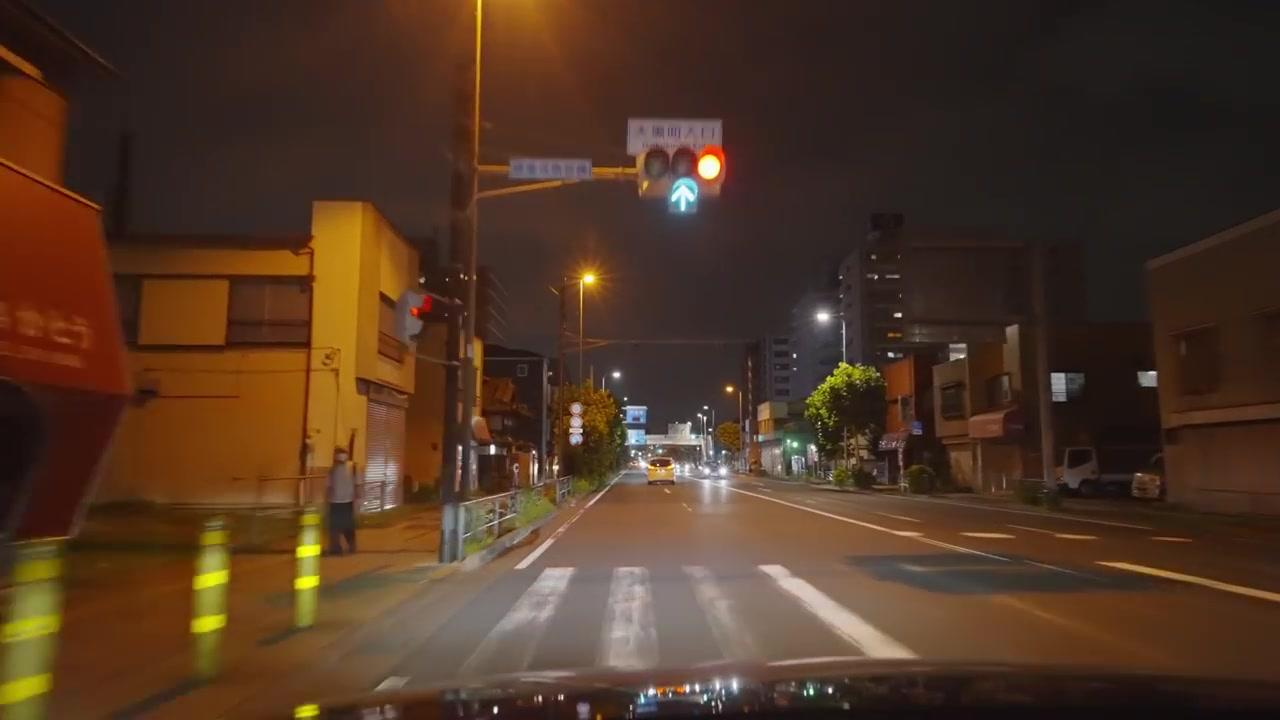car: (1131, 450, 1167, 500), (646, 457, 676, 486), (699, 465, 729, 478)
person: (325, 449, 358, 554)
traffic light: (666, 146, 702, 214), (636, 145, 670, 200), (398, 290, 430, 341), (694, 145, 726, 196)
